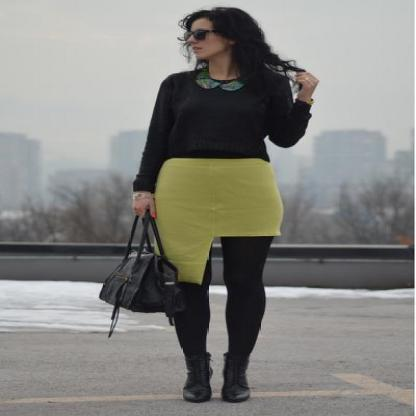bag: (99, 209, 185, 337)
jacket: (133, 60, 311, 190)
shoe: (183, 348, 250, 402)
skirt: (138, 158, 282, 284)
